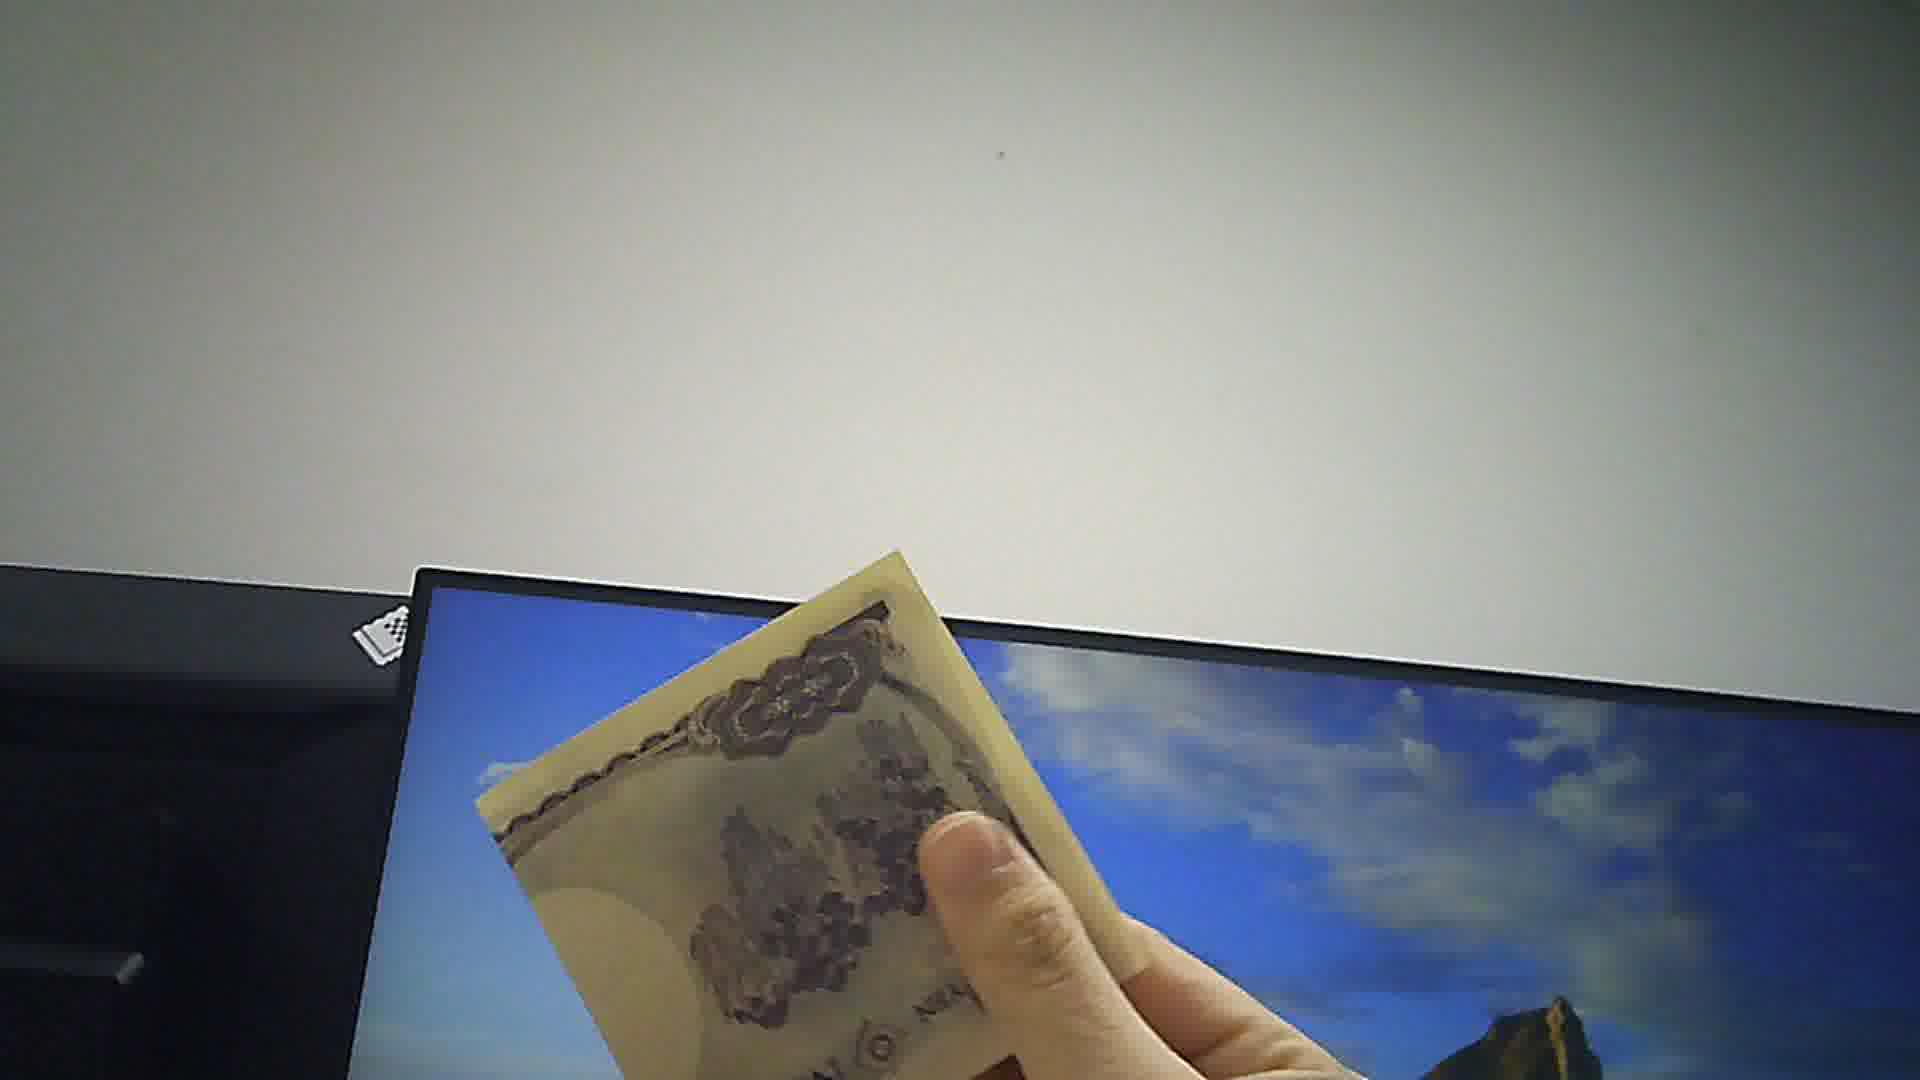5,000 Yen: (454, 555, 1153, 1079)
